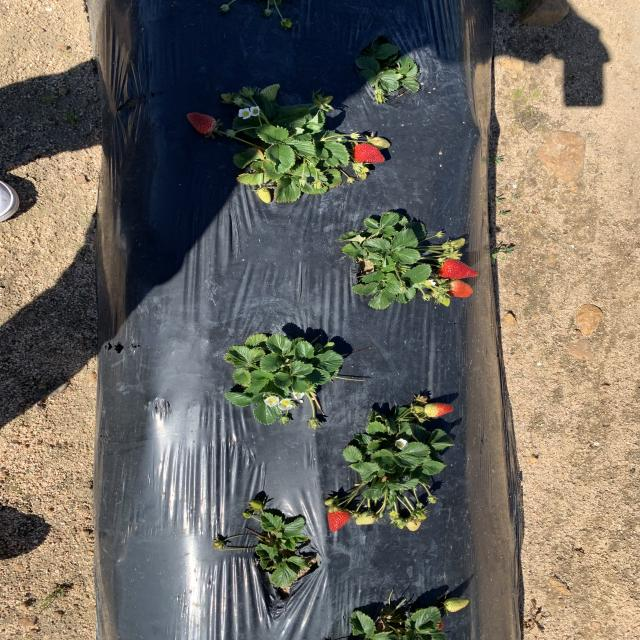unripe: (438, 257, 479, 281), (186, 109, 218, 135), (351, 143, 386, 166), (326, 507, 352, 532), (446, 280, 474, 298), (424, 403, 456, 417)
